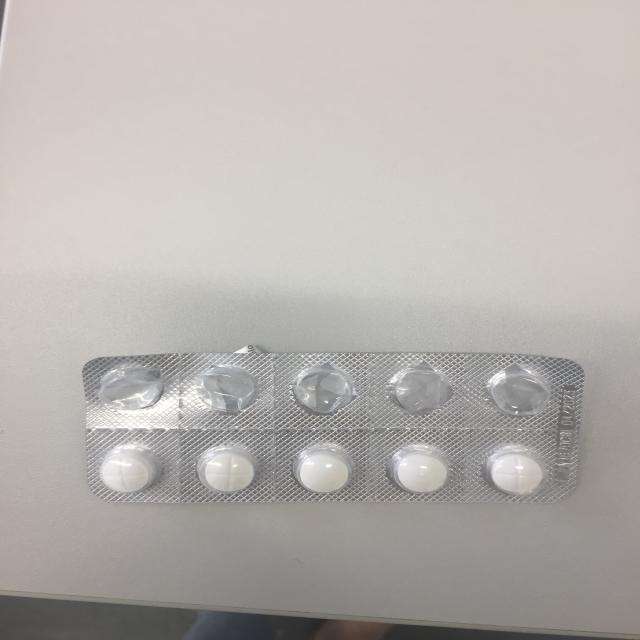Empty: (186, 362, 268, 418), (478, 363, 556, 418), (380, 360, 451, 415), (289, 359, 352, 416), (93, 364, 165, 411)
Pill: (380, 442, 459, 497), (92, 442, 164, 499), (194, 441, 262, 497), (288, 439, 353, 496), (484, 446, 550, 499)
